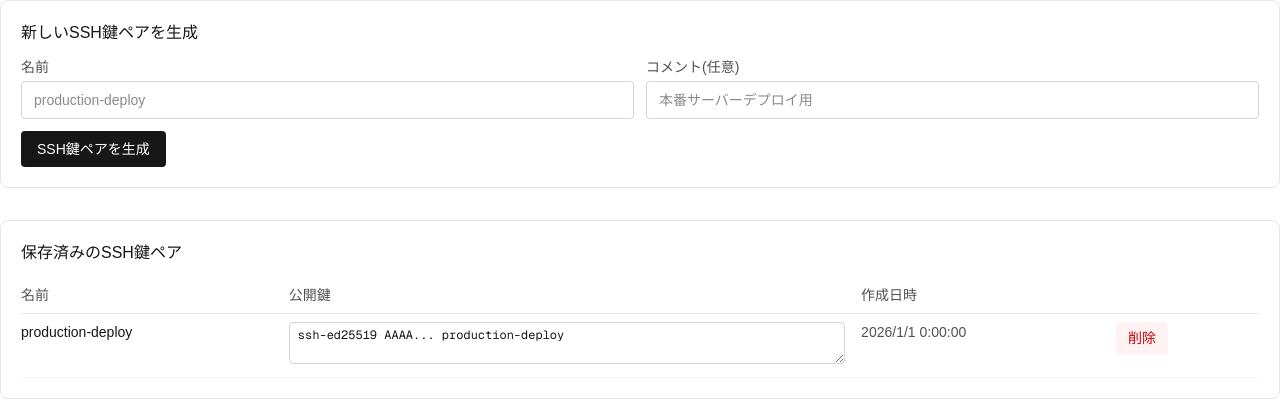
Test case: SshKeyPairsPanel › 削除に成功すると手動リロードなしで一覧から行が消える(issue #1361 AC1)
This screenshot has width=1280, height=416.
Expected: the text "production-deploy" is shown, [21,324,132,340]
Click the button "削除" at (1142, 338), box [1116,322,1168,354]
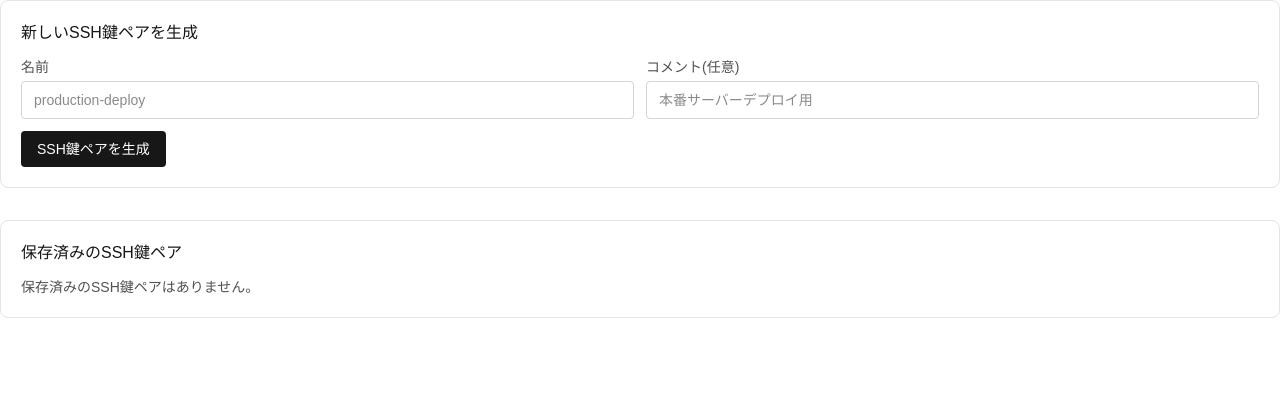
Expected: the text "保存済みのSSH鍵ペアはありません。" is shown, [21,279,259,295]
